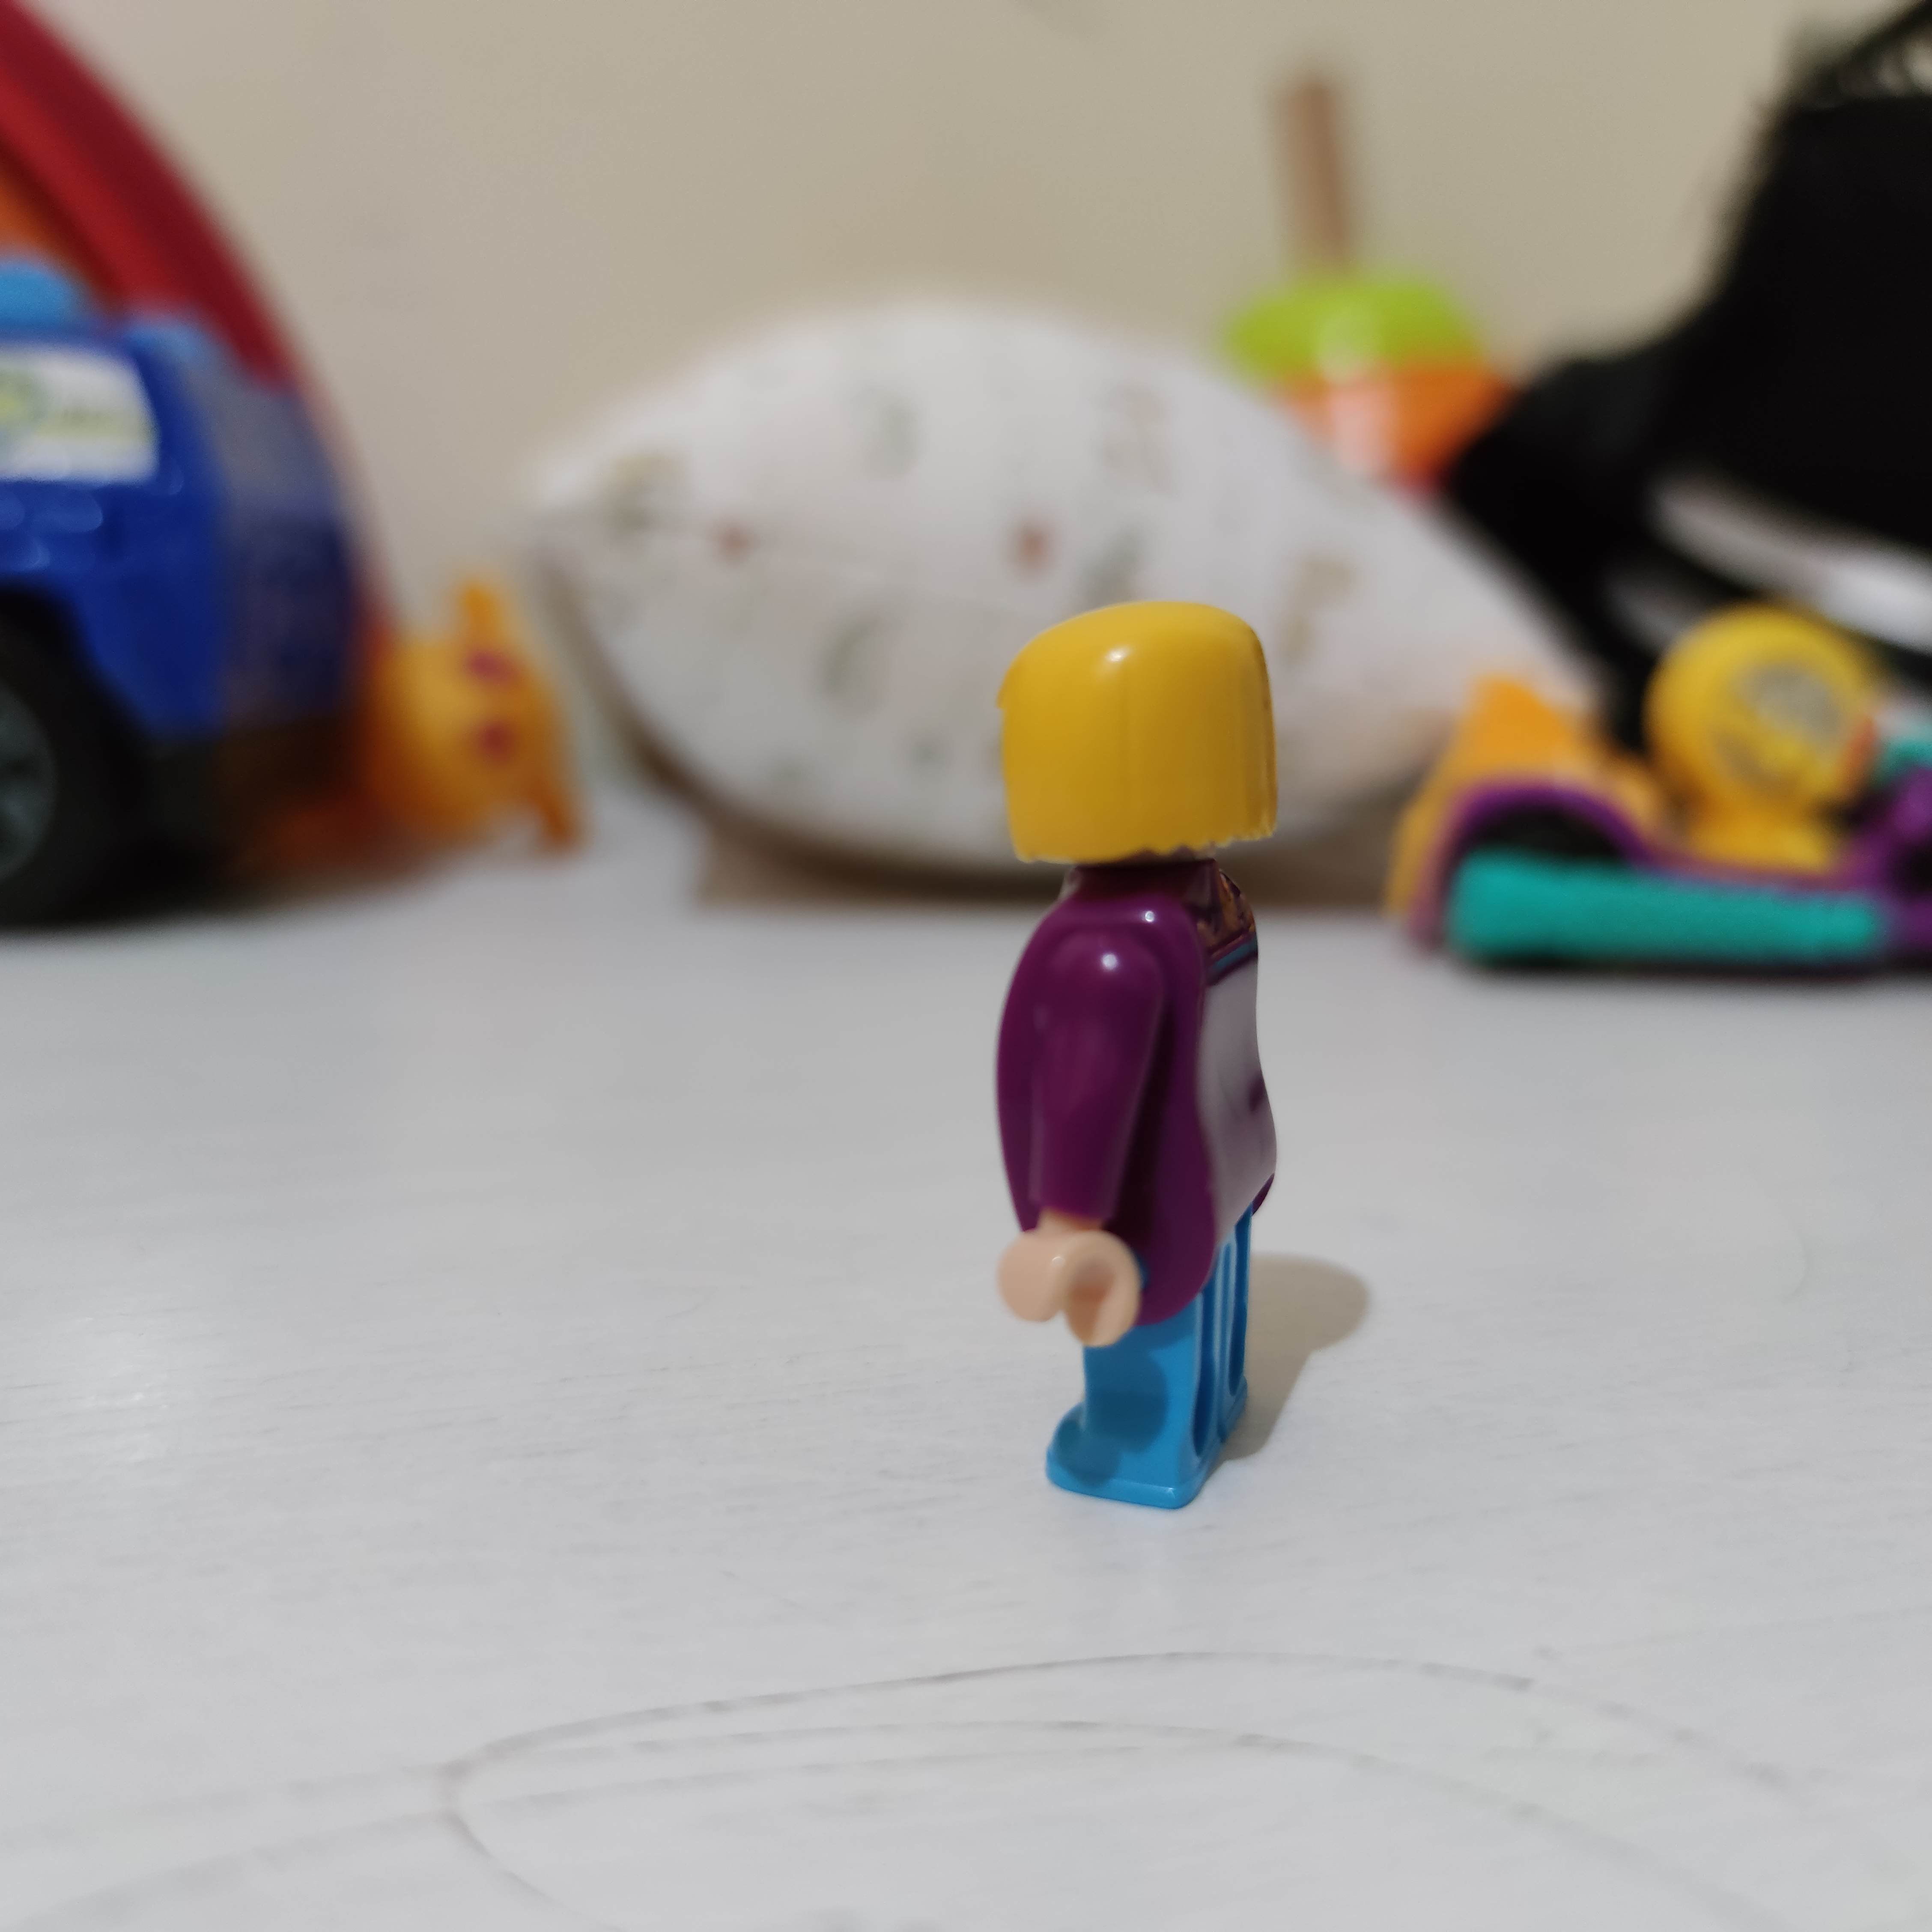lego: (973, 593, 1292, 1516)
